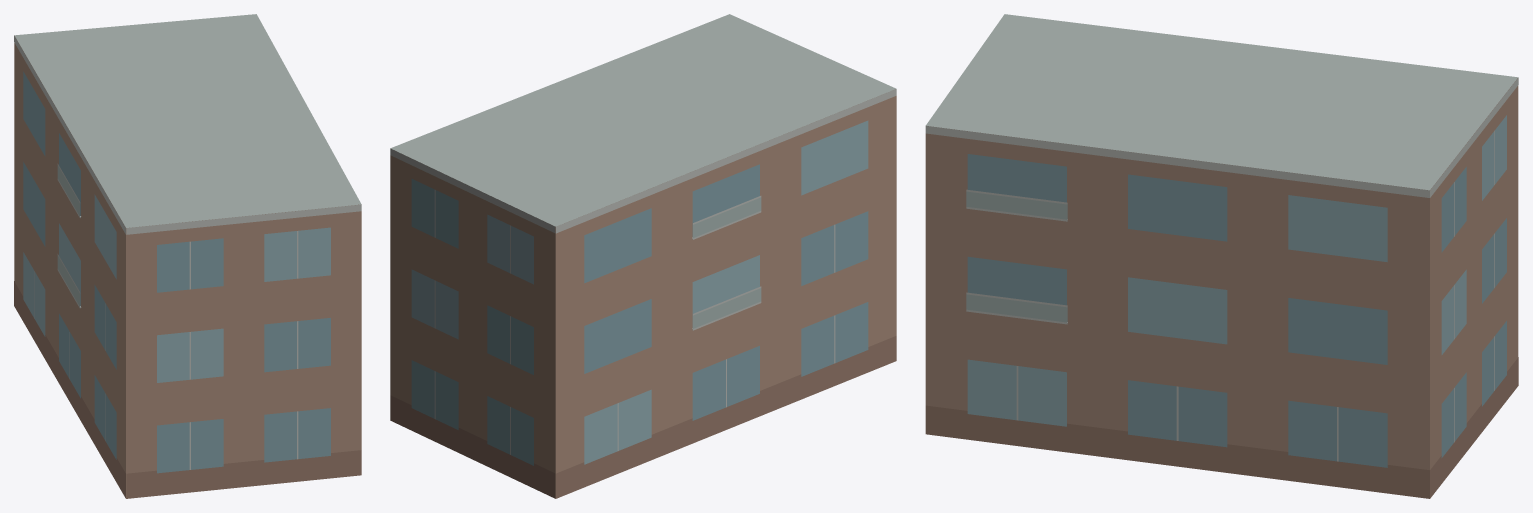
The model's file is survey-upis-32926646.glb.
3 views of the same model, side by side, from view 1: azimuth 30°, elevation 25°; view 2: azimuth 150°, elevation 25°; view 3: azimuth 270°, elevation 25° (orthographic). The views are drawn at different scales.
Parts seen in each view (by area): view 1: survey-upis-32926646.tmp; view 2: survey-upis-32926646.tmp; view 3: survey-upis-32926646.tmp.
Boxes of the visible parts, bbox=[...] form: survey-upis-32926646.tmp: bbox=[14, 14, 361, 498]; survey-upis-32926646.tmp: bbox=[390, 14, 896, 498]; survey-upis-32926646.tmp: bbox=[925, 14, 1518, 498].
Size of the model in its own units: 11.9 by 9.7 by 16.9.
